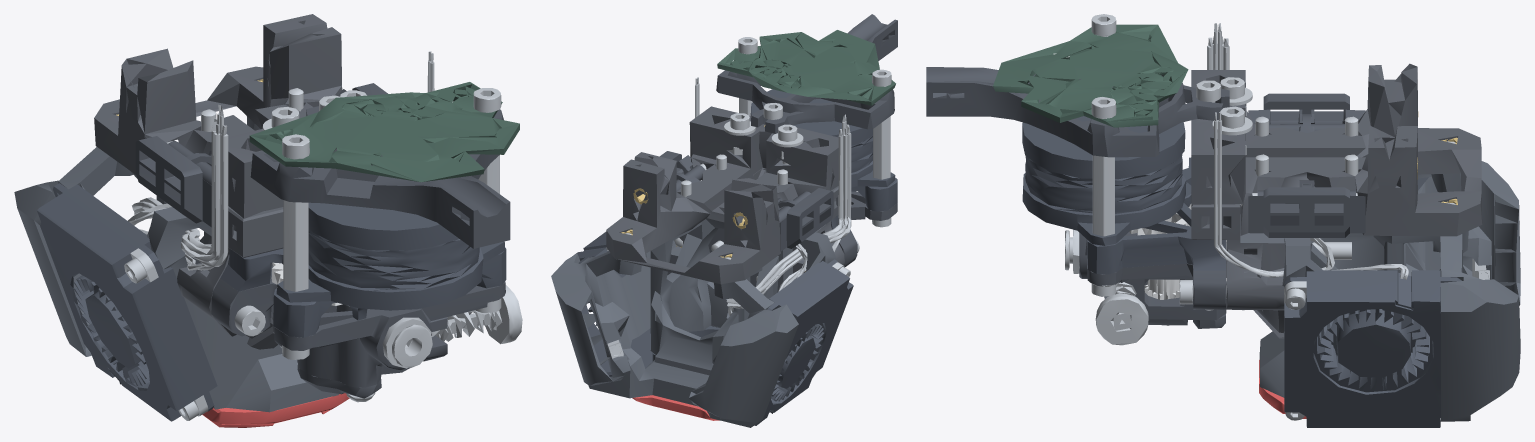
3 views of the same model, side by side, from view 1: azimuth 30°, elevation 25°; view 2: azimuth 150°, elevation 25°; view 3: azimuth 270°, elevation 25° (orthographic). The views are drawn at different scales.
Visible parts, largest first — view 1: xol_carriage, xol_fan_37, xol_pcb, xol_motor, xol_body, xol_extruder_housing_89, xol_extruder_housing_106, xol_extruder_mount, xol_motor_107, xol_extruder_housing_17, xol_fan_48, xol_fastener_86 (+13 smaller); view 2: xol_body, xol_carriage, xol_pcb, xol_extruder_housing_89, xol_fan_37, xol_motor, xol_extruder_housing_17, xol_fan_48, xol_fan, xol_extruder_housing_106, xol_fastener_86, xol_motor_107 (+7 smaller); view 3: xol_carriage, xol_body, xol_fan, xol_pcb, xol_motor, xol_extruder_housing_89, xol_fan_38, xol_extruder_mount, xol_extruder_housing_24, xol_motor_107, xol_extruder_housing_106, xol_extruder_housing_17 (+6 smaller).
Boxes of the visible parts, x1,y1,x2,y2 form: xol_carriage: [94, 14, 342, 218]; xol_fan_37: [36, 183, 217, 421]; xol_pcb: [249, 82, 519, 182]; xol_motor: [276, 202, 505, 310]; xol_body: [14, 116, 338, 412]; xol_extruder_housing_89: [250, 106, 510, 248]; xol_extruder_housing_106: [211, 265, 505, 387]; xol_extruder_mount: [177, 206, 283, 349]; xol_motor_107: [220, 247, 506, 337]; xol_extruder_housing_17: [135, 136, 211, 227]; xol_fan_48: [74, 275, 149, 386]; xol_fastener_86: [283, 200, 308, 291]; xol_body: [551, 218, 836, 427]; xol_carriage: [606, 106, 838, 284]; xol_pcb: [717, 30, 895, 105]; xol_extruder_housing_89: [716, 14, 897, 133]; xol_fan_37: [754, 259, 853, 425]; xol_motor: [750, 89, 895, 187]; xol_extruder_housing_17: [779, 188, 833, 251]; xol_fan_48: [771, 324, 824, 401]; xol_fan: [572, 232, 652, 376]; xol_extruder_housing_106: [839, 191, 897, 267]; xol_fastener_86: [873, 116, 890, 179]; xol_motor_107: [831, 177, 897, 231]; xol_carriage: [1191, 63, 1482, 236]; xol_body: [1240, 161, 1520, 421]; xol_fan: [1284, 270, 1461, 427]; xol_pcb: [993, 24, 1188, 127]; xol_motor: [1022, 116, 1186, 245]; xol_extruder_housing_89: [926, 67, 1229, 157]; xol_fan_38: [1317, 309, 1429, 390]; xol_extruder_mount: [1191, 203, 1285, 338]; xol_extruder_housing_24: [1248, 187, 1365, 237]; xol_motor_107: [1087, 157, 1225, 274]; xol_extruder_housing_106: [1079, 232, 1225, 309]; xol_extruder_housing_17: [1248, 93, 1365, 124].
Size of the model in its own units: 0.0767 by 0.0815 by 0.1331.
